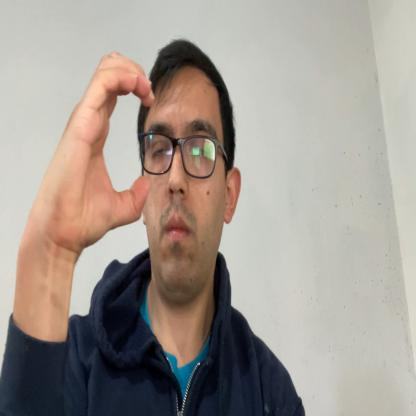C: (57, 49, 154, 243)
